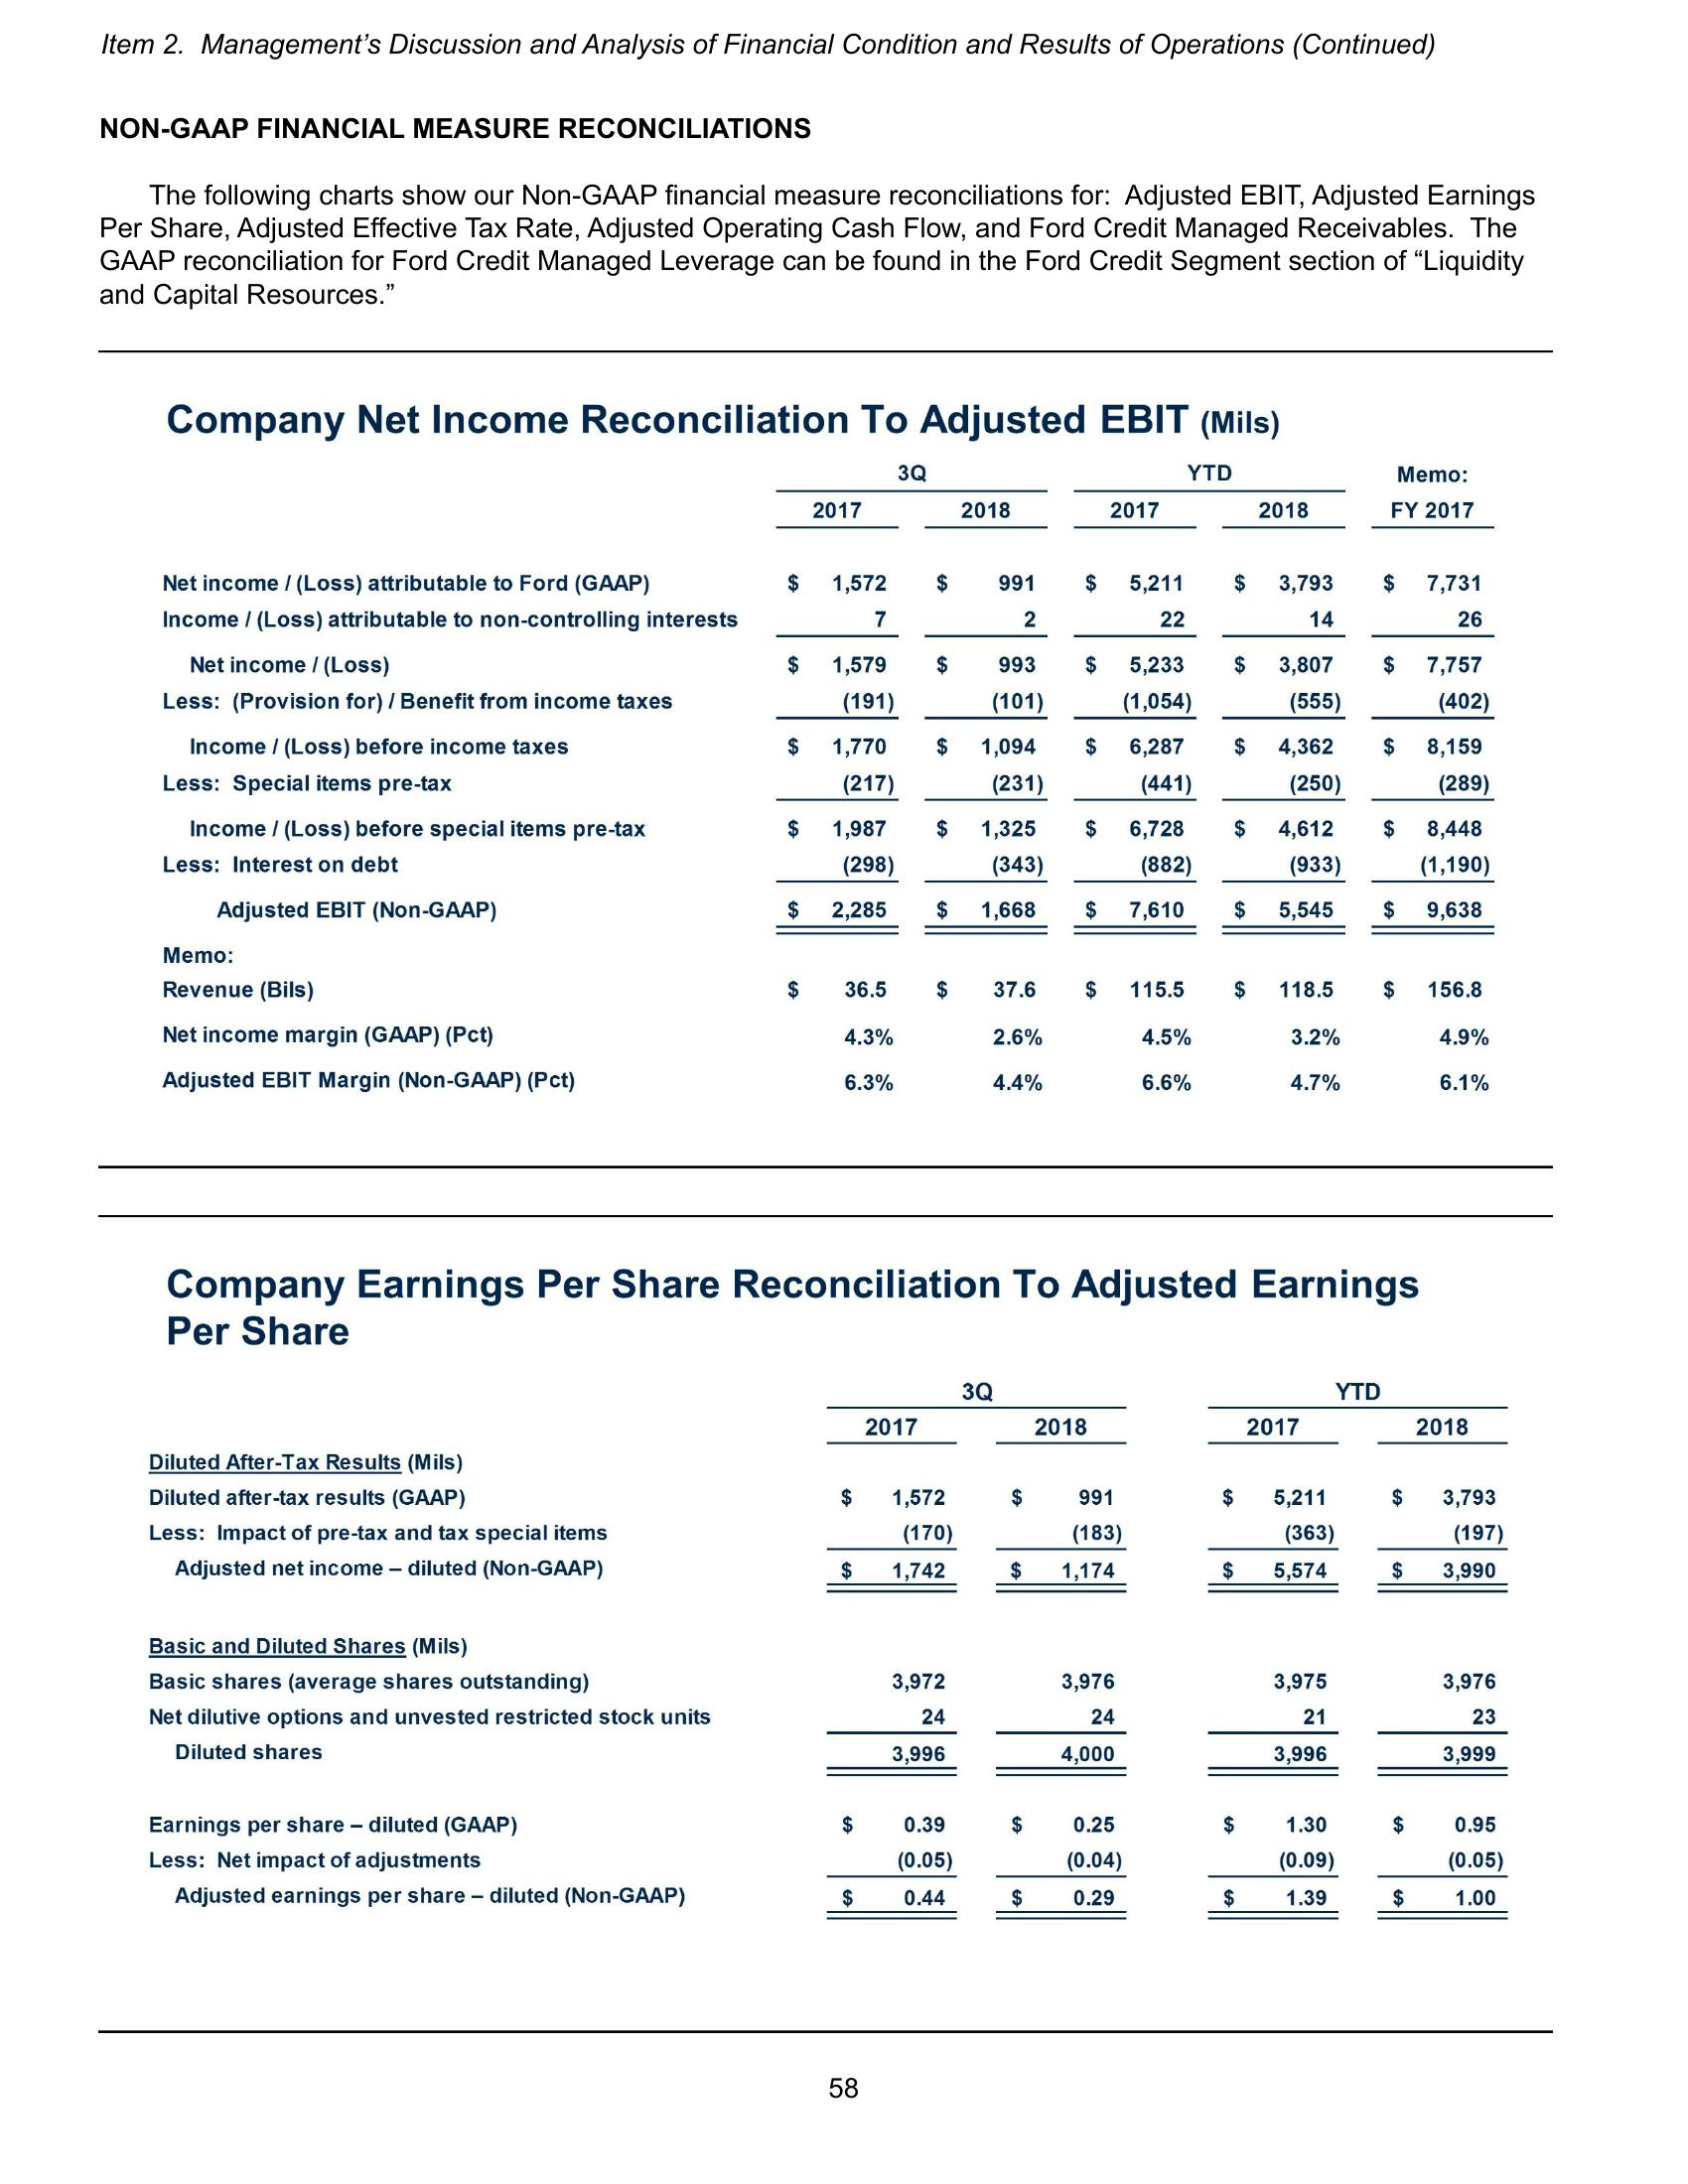table: (147, 454, 1500, 1099), (142, 1376, 1518, 1929)
